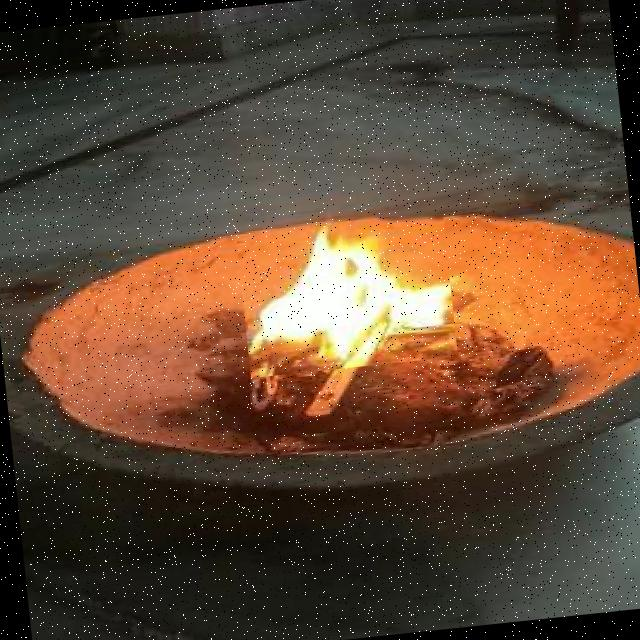fire: (235, 212, 458, 378)
